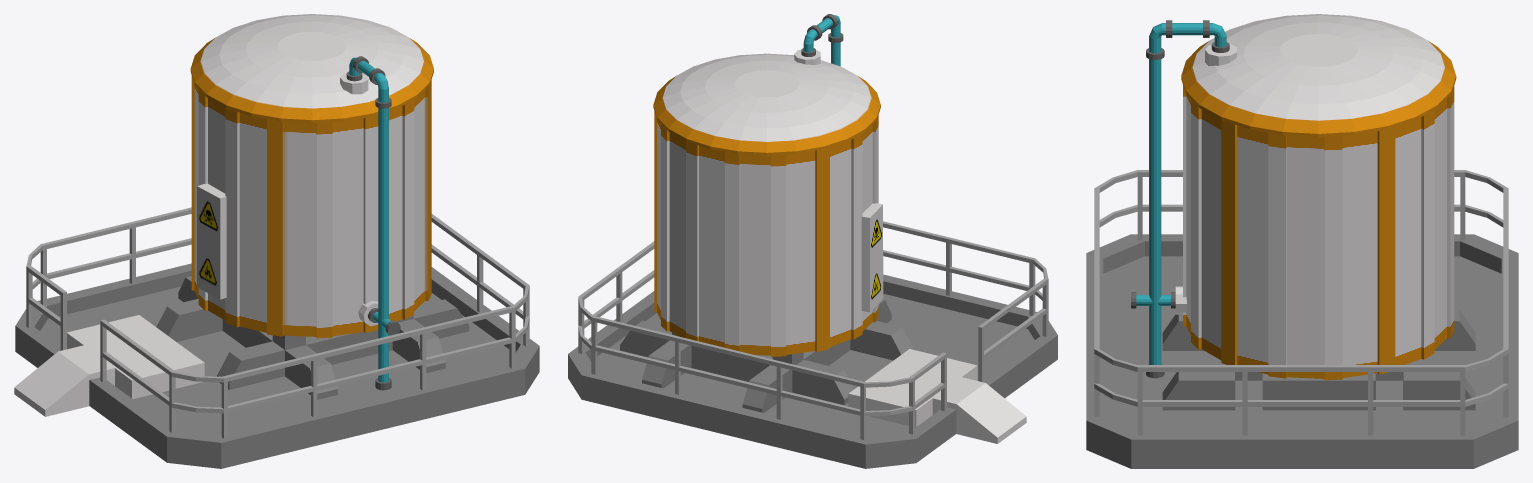
Rendered from tank.glb.
3 renders of one model, left to right at view 1: azimuth 30°, elevation 25°; view 2: azimuth 150°, elevation 25°; view 3: azimuth 270°, elevation 25°, orthographic. The views are drawn at different scales.
Parts seen in each view (by area): view 1: Fuel_tank_3_; view 2: Fuel_tank_3_; view 3: Fuel_tank_3_.
Part boxes in pixels (bbox=[...]): Fuel_tank_3_: bbox=[14, 14, 539, 468]; Fuel_tank_3_: bbox=[568, 14, 1057, 468]; Fuel_tank_3_: bbox=[1086, 14, 1518, 468].
Bounding box in the file's own units: 2.8 × 2.09 × 2.23.
Materials: 1 (1 with a texture image).
